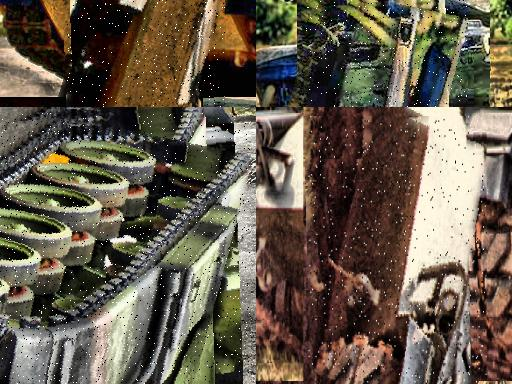tanks: (1, 114, 251, 384), (310, 118, 487, 384), (77, 1, 224, 108), (322, 1, 469, 108)
